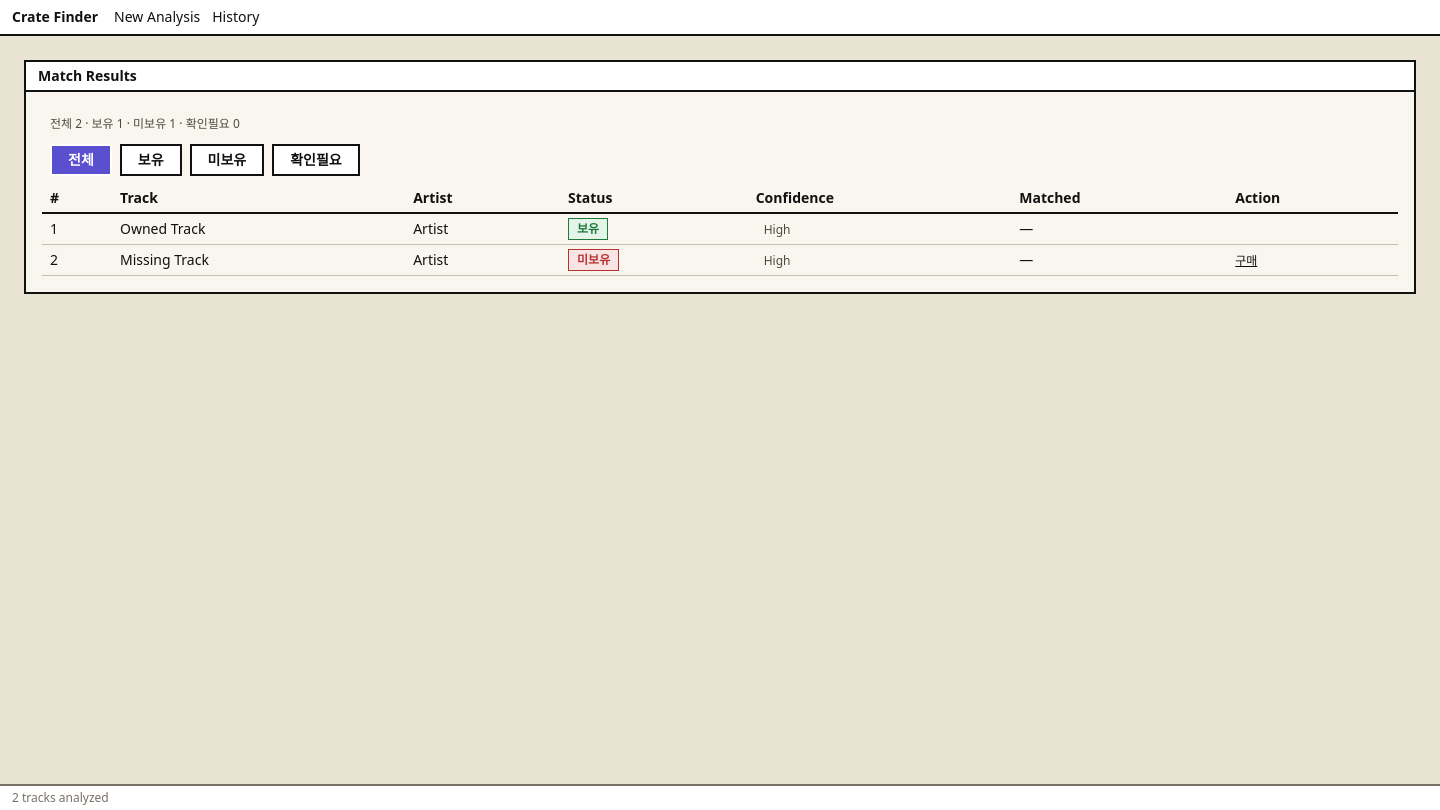
Test case: ResultsPage › Missing 필터를 누르면 missing 행만 보인다
Check: the text "Owned Track" is shown, box x1=112 y1=213 x2=405 y2=244
What coordinates should you click on to do the following:
click the button "미보유"
I would click on:
 (227, 160)
Its box is x1=190 y1=144 x2=264 y2=176.
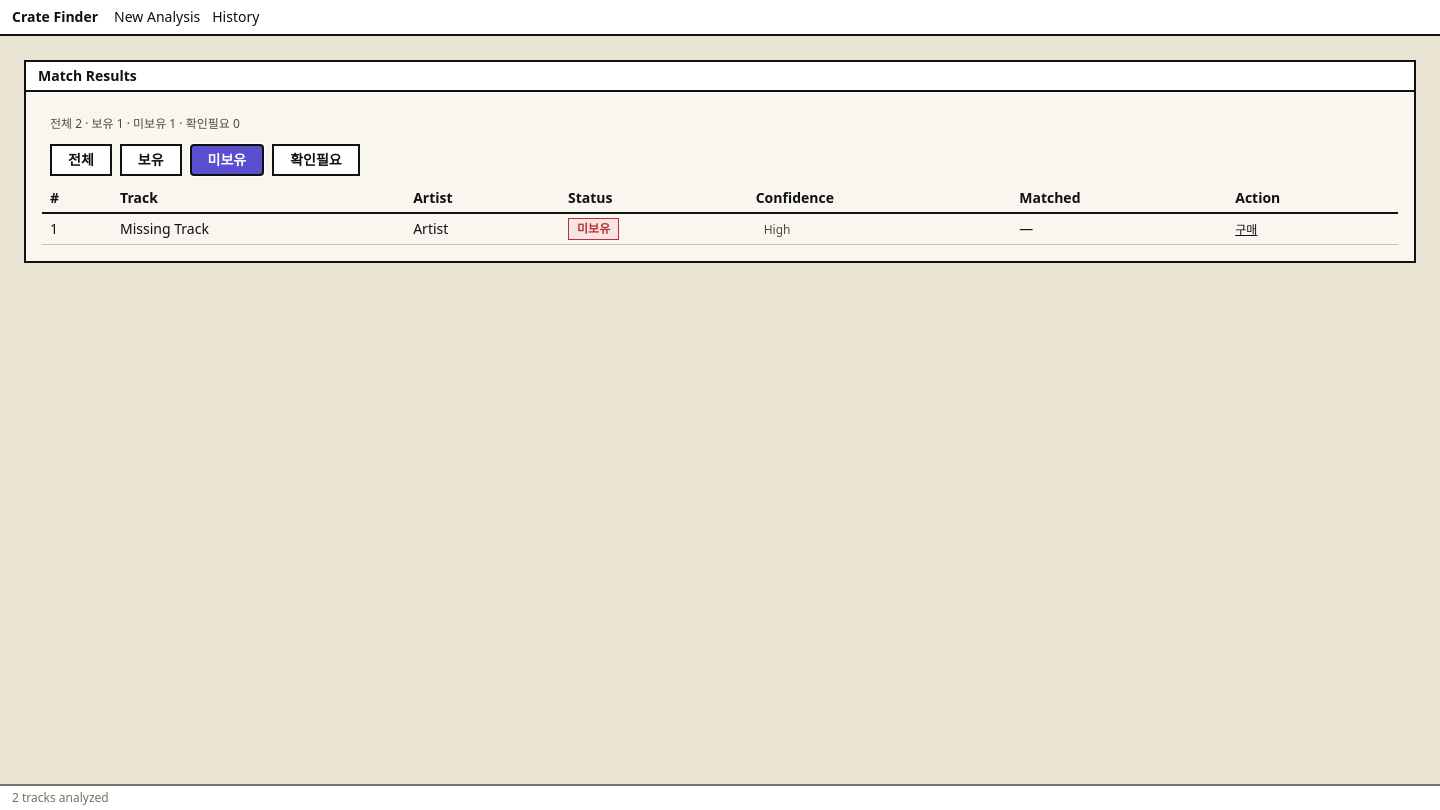
Check: the text "Missing Track" is shown, box x1=112 y1=213 x2=405 y2=244
Check: the text "Owned Track" is gone
